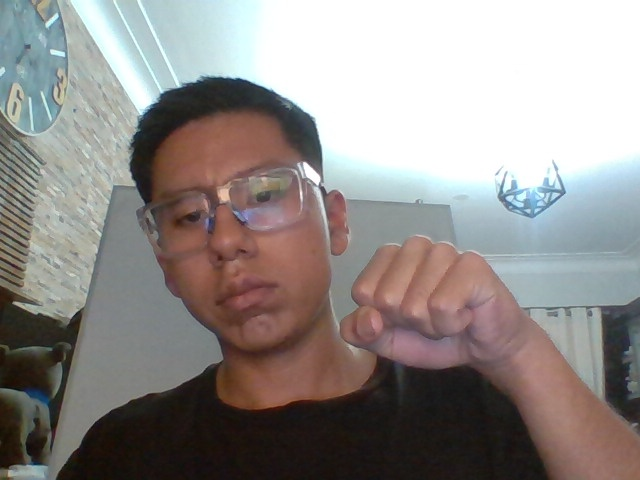Yes: (339, 236, 519, 374)
